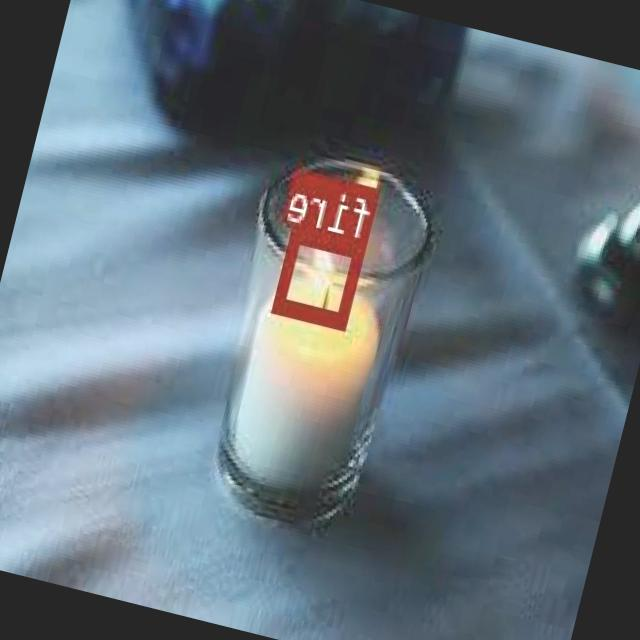fire: (276, 225, 368, 325)
